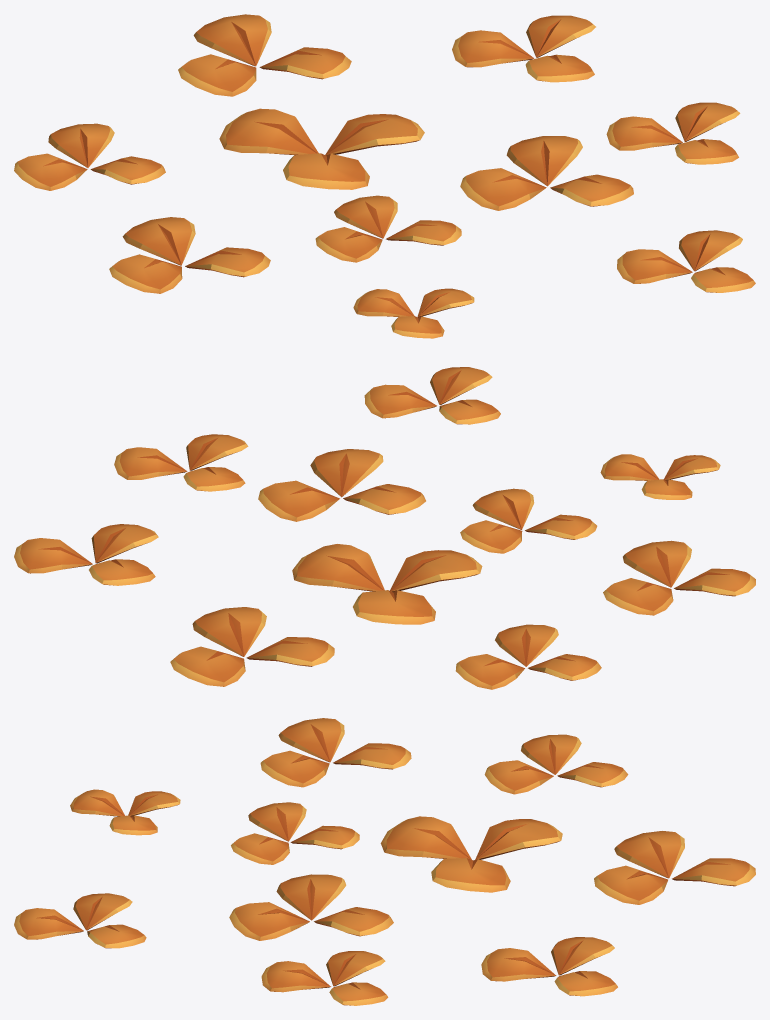
The model's file is clover_fall.glb.
3 renders of one model, top to bottom at view 1: azimuth 30°, elevation 25°; view 2: azimuth 150°, elevation 25°; view 3: azimuth 270°, elevation 25°, orthographic. The views are drawn at different scales.
Visible parts, largest first — view 1: clover_fall; view 2: clover_fall; view 3: clover_fall.
Part boxes in pixels (left/top/right/bottom): clover_fall: left=14, top=14, right=755, bottom=338; clover_fall: left=14, top=367, right=755, bottom=689; clover_fall: left=14, top=718, right=755, bottom=1005.
Bounding box in the file's own units: 2.32 × 0.0816 × 2.55.
Materials: 1 (1 with a texture image).
